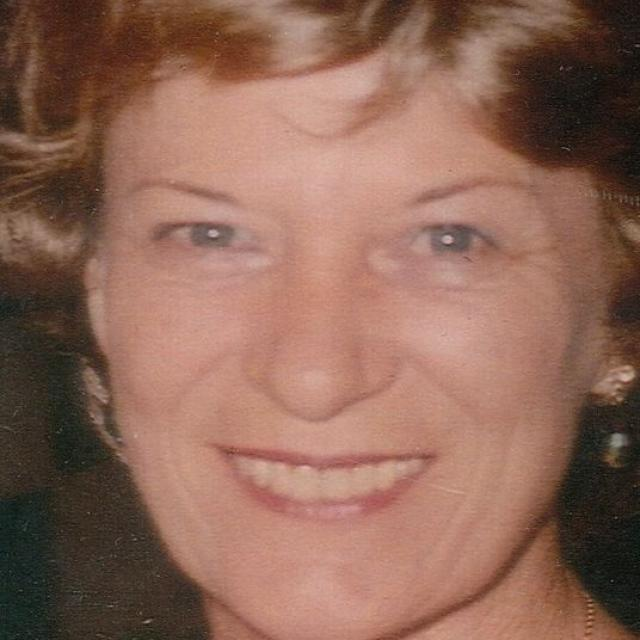Normal: (104, 36, 595, 639)
